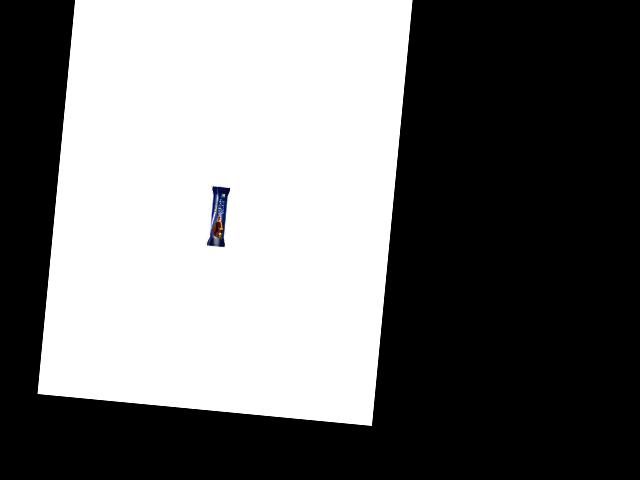chocolate: (205, 184, 236, 255)
